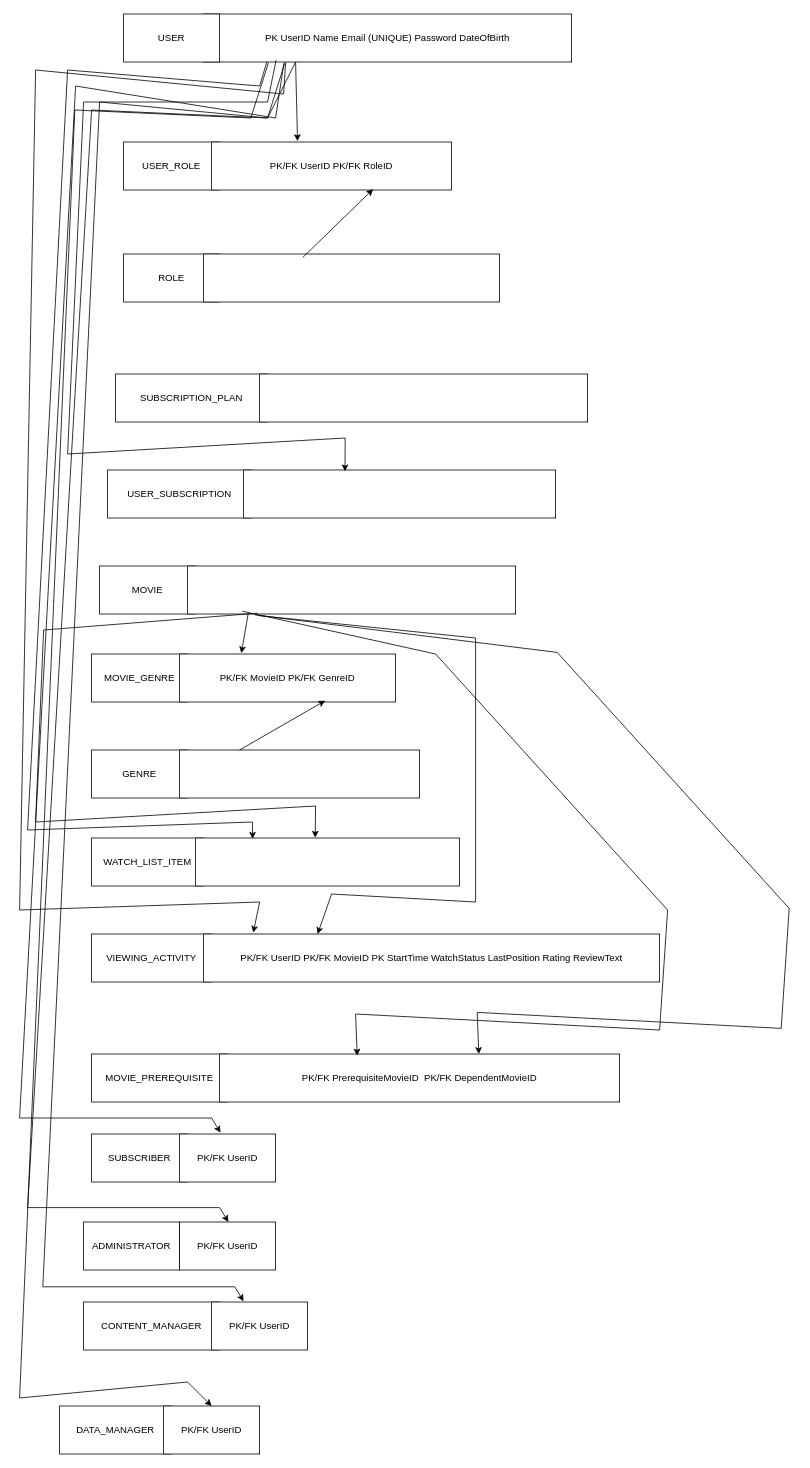
Some shapes in this 810 by 1468 pixel diagram are drawn without their labels. The shapes that lost their labels are listed below. From the top down, each one's centre as x and y in pixels, then its label:
At point (351, 277): "PK RoleID RoleName (UNIQUE)".
At point (423, 397): "PK PlanID Name (UNIQUE) Price BillingPeriod MaxDevices".
At point (399, 493): "PK/FK UserID FK PlanID StartDate EndDate".
At point (351, 589): "PK MovieID Title ReleaseYear Duration AgeRating Description".
At point (299, 773): "PK GenreID Name (UNIQUE) Description".
At point (327, 861): "PK/FK UserID PK/FK MovieID DateAdded".
